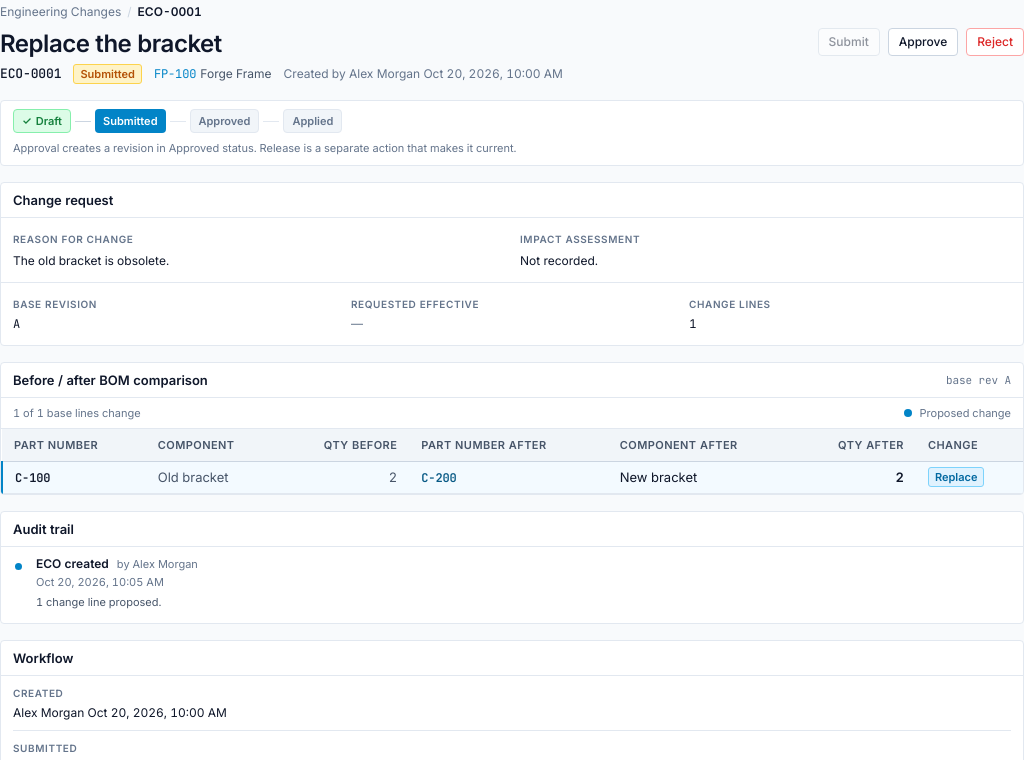
Scenario: EcoDetail › keeps a mapped dialog error visible when an action fails
Check: the heading "Replace the bracket" is shown, box [0,29,222,58]
Click the button "Approve": (923, 42) [888,28,958,56]
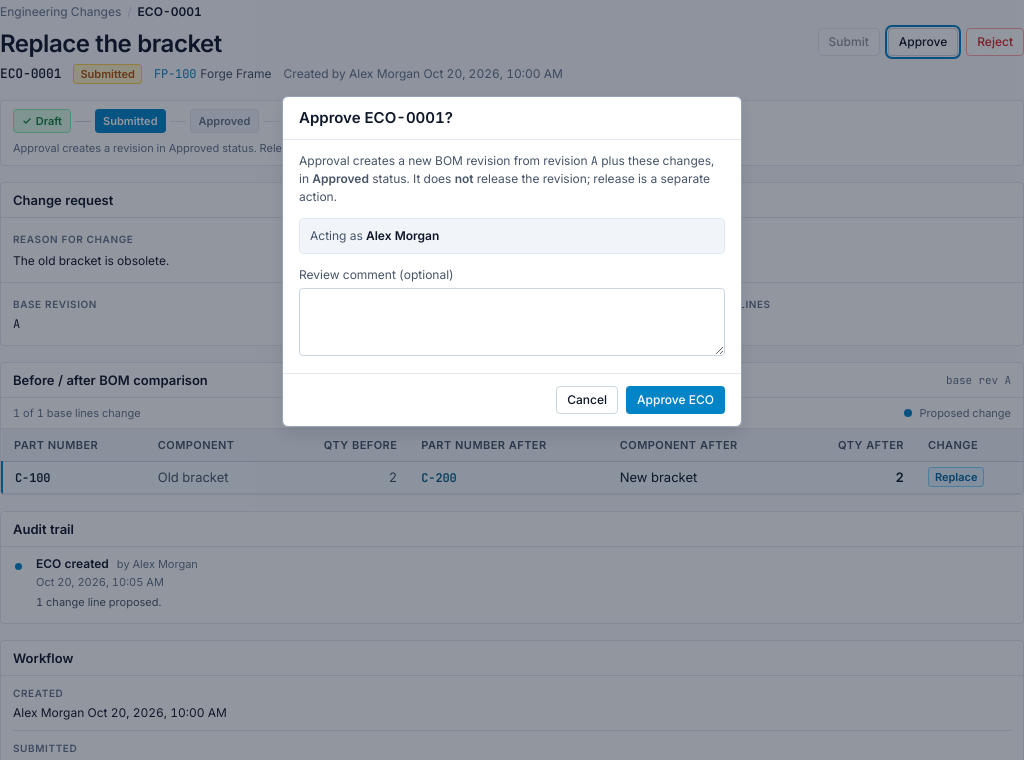
Click the button "Approve ECO": (676, 400) [626,386,725,414]
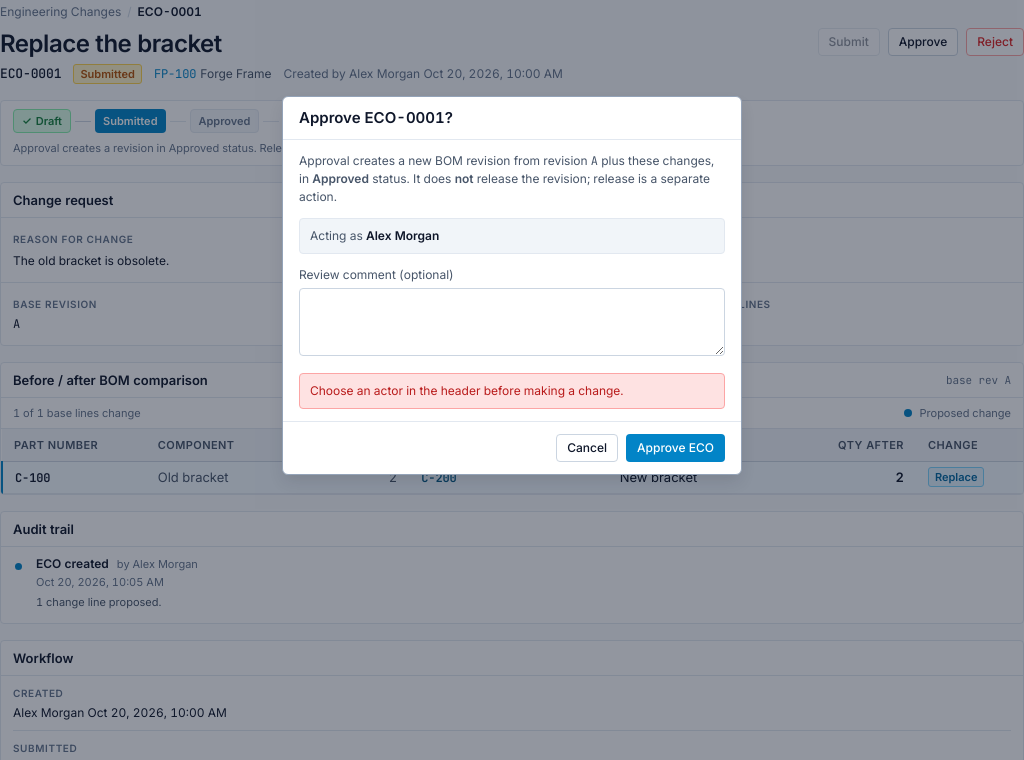
Check: the message reads "Choose an actor in the header before making a change.", box [310,383,624,398]
